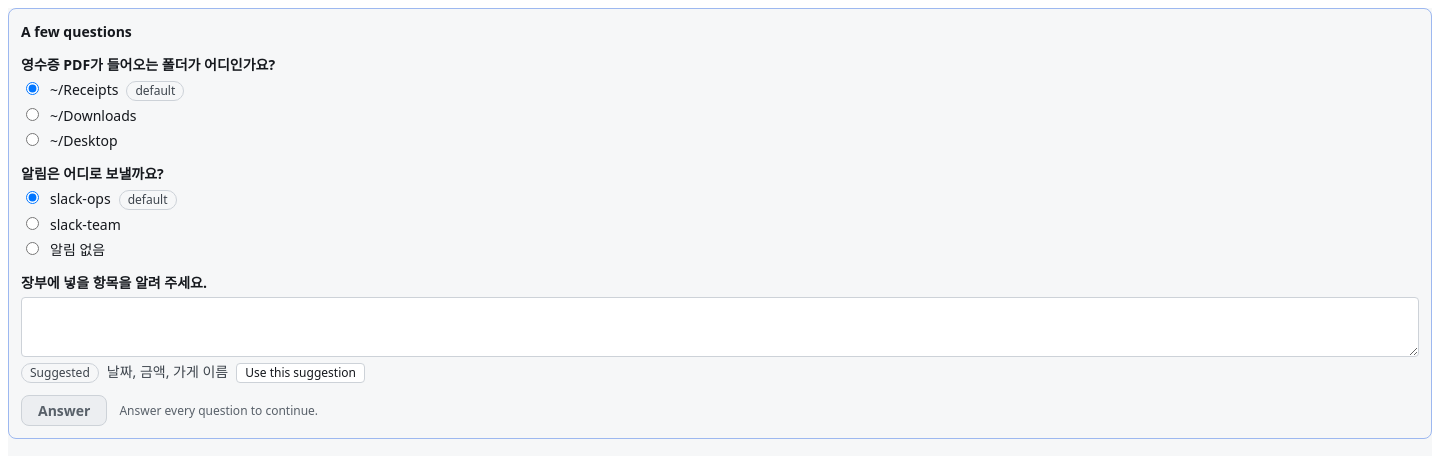
it: QuestionCard › accepts the suggestion with a click and then submits it as the answer
This screenshot has width=1440, height=456.
Later steps or results of the test are not shown.
Click the button "Use this suggestion" at (301, 373), box [236,363,365,383]
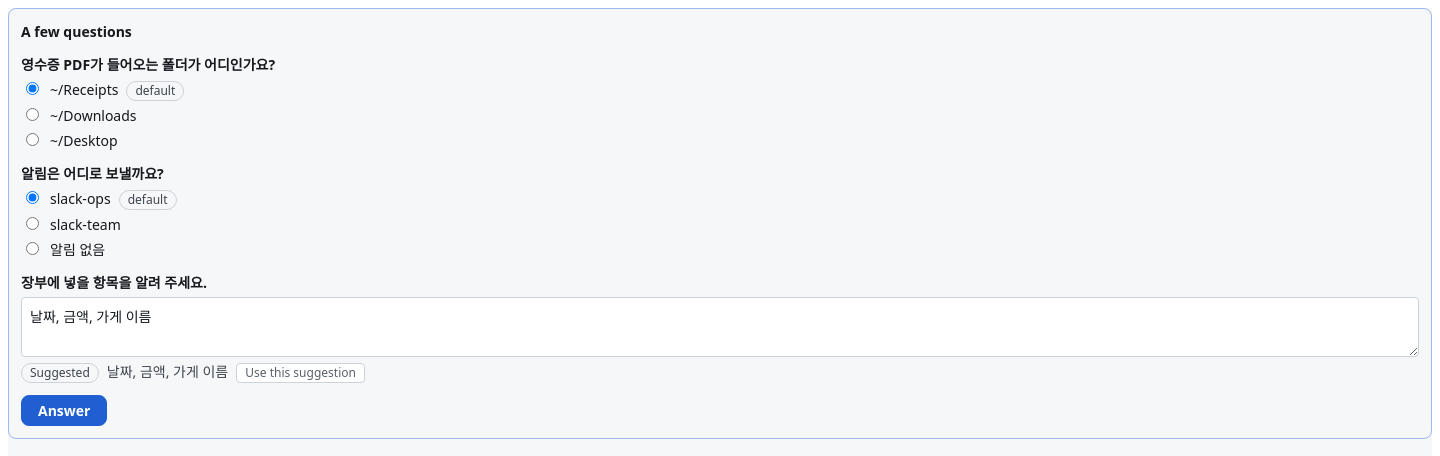
Now the text box named "Your answer" holds "날짜, 금액, 가게 이름", box [21,297,1419,357]
Now the button "Answer" is enabled, box [21,395,107,426]
